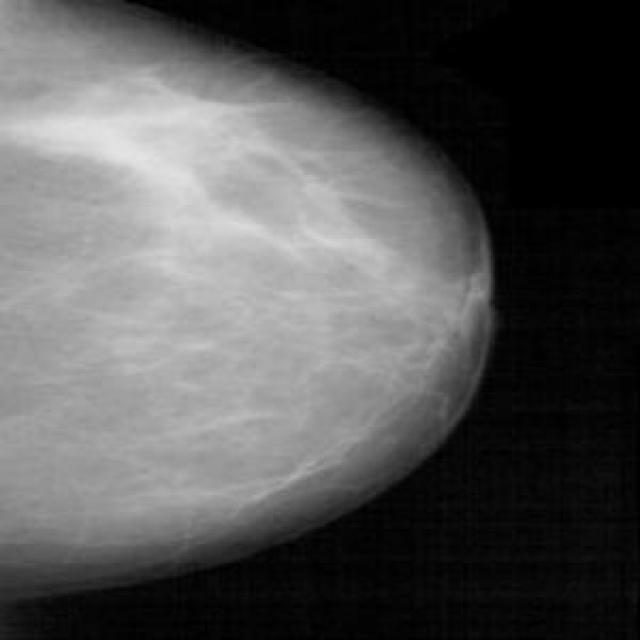tumor: (46, 49, 306, 226)
